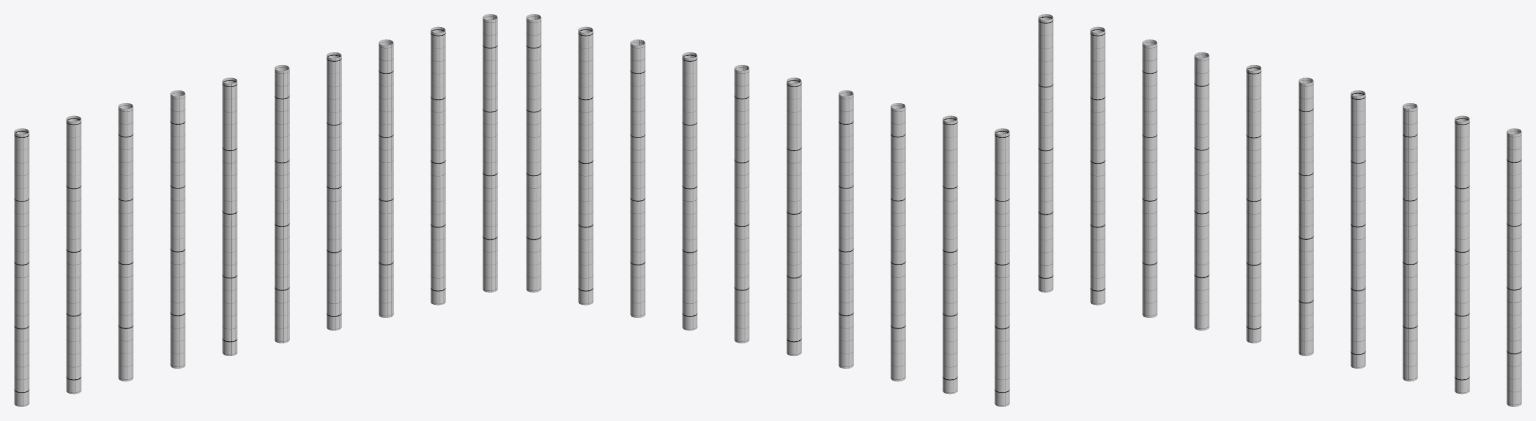
The model's file is Tile_Stairs_Support_Mono_4x4x2.fbx.
The picture shows the model from 3 angles, left to right: view 1: azimuth 30°, elevation 25°; view 2: azimuth 150°, elevation 25°; view 3: azimuth 330°, elevation 25°; orthographic projection.
Visible parts, largest first — view 1: Tile_Stairs_Support_Mono_4x4x2; view 2: Tile_Stairs_Support_Mono_4x4x2; view 3: Tile_Stairs_Support_Mono_4x4x2.
Part boxes in pixels (bbox=[...]): Tile_Stairs_Support_Mono_4x4x2: bbox=[14, 14, 497, 406]; Tile_Stairs_Support_Mono_4x4x2: bbox=[526, 14, 1009, 406]; Tile_Stairs_Support_Mono_4x4x2: bbox=[1038, 14, 1521, 406].
Size of the model in its own units: 370 by 200 by 10.
